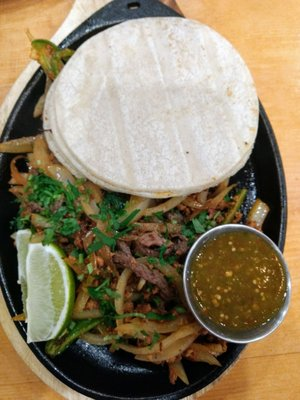sushi: (1, 3, 298, 400), (183, 224, 291, 345)
